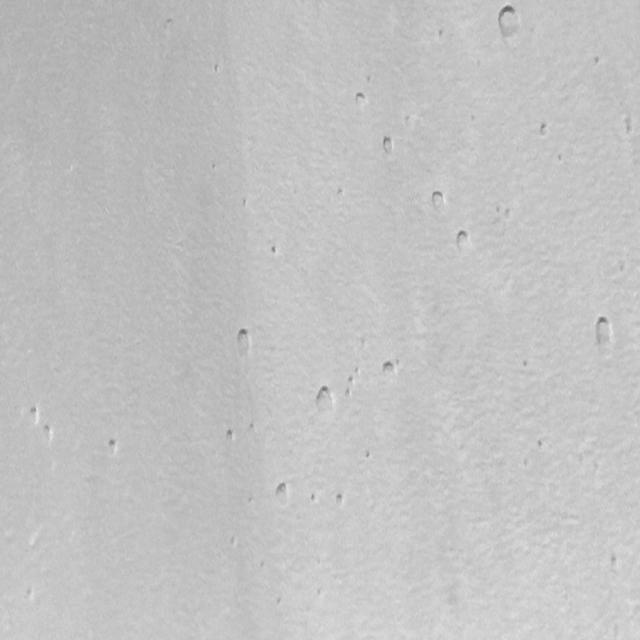pin holes: (494, 1, 524, 42), (590, 312, 616, 349), (310, 385, 334, 417), (232, 326, 255, 359), (426, 188, 449, 216), (272, 481, 294, 509), (379, 360, 403, 384), (453, 228, 474, 255), (380, 134, 399, 159), (605, 551, 624, 574), (354, 91, 372, 113), (622, 117, 638, 141), (25, 406, 42, 426), (107, 438, 123, 458), (42, 424, 57, 445), (537, 120, 553, 138), (334, 492, 349, 511), (23, 585, 38, 603), (347, 364, 360, 384), (535, 436, 551, 452), (224, 428, 238, 444), (502, 204, 516, 220), (335, 186, 348, 203), (590, 53, 603, 69), (363, 447, 376, 463), (228, 534, 240, 551), (518, 359, 532, 373), (210, 60, 223, 75), (245, 491, 258, 506), (436, 27, 448, 43), (268, 244, 281, 258), (342, 385, 353, 401), (404, 112, 415, 128), (239, 196, 251, 210), (248, 419, 257, 437), (308, 493, 320, 506), (276, 591, 284, 609), (556, 152, 563, 163)
